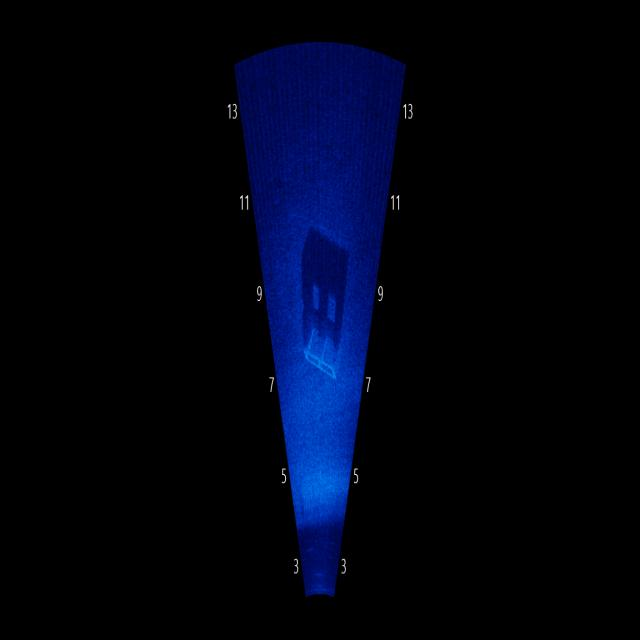square: (298, 316, 351, 397)
